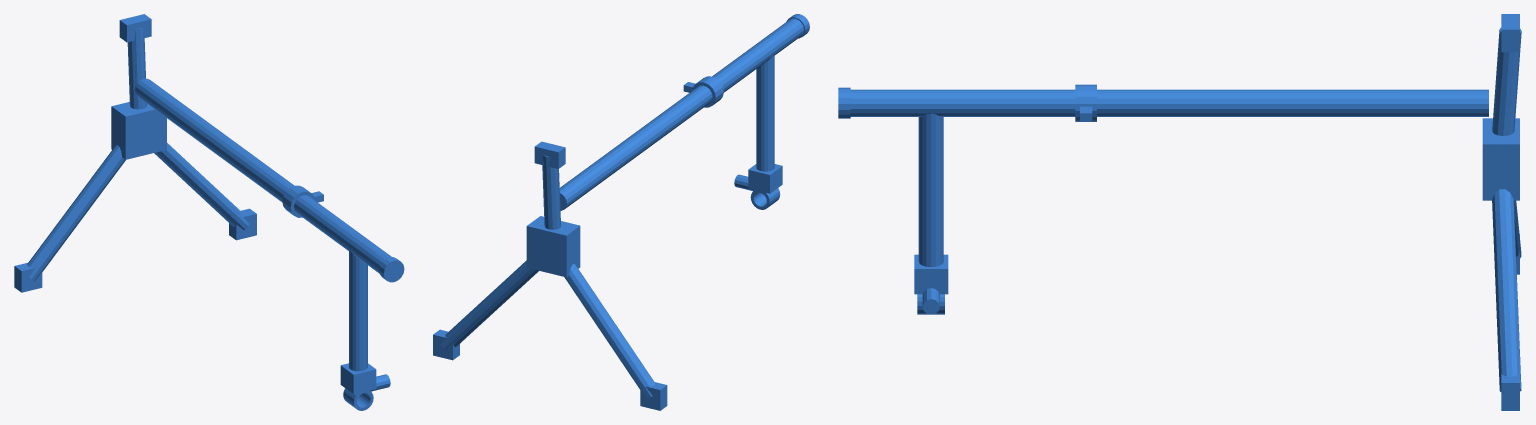
Rendered from repair_stand.glb.
3 renders of one model, left to right at view 1: azimuth 30°, elevation 25°; view 2: azimuth 150°, elevation 25°; view 3: azimuth 270°, elevation 25°, orthographic. The views are drawn at different scales.
Visible parts, largest first — view 1: repair_stand.001; view 2: repair_stand.001; view 3: repair_stand.001.
Part boxes in pixels (left/top/right/bottom): repair_stand.001: left=14, top=14, right=404, bottom=410; repair_stand.001: left=433, top=14, right=809, bottom=410; repair_stand.001: left=838, top=14, right=1521, bottom=410.
Size of the model in its own units: 0.57 by 0.56 by 1.1.
